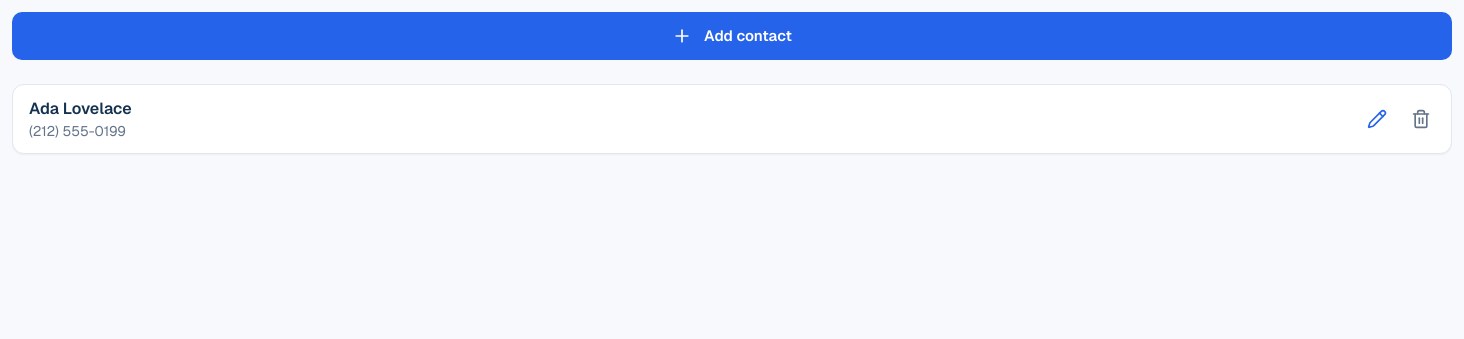
Test case: ContactManager › requires confirmation before deleting from the list
Click the button named "Delete Ada Lovelace" at (1421, 119), box x1=1399 y1=97 x2=1443 y2=141
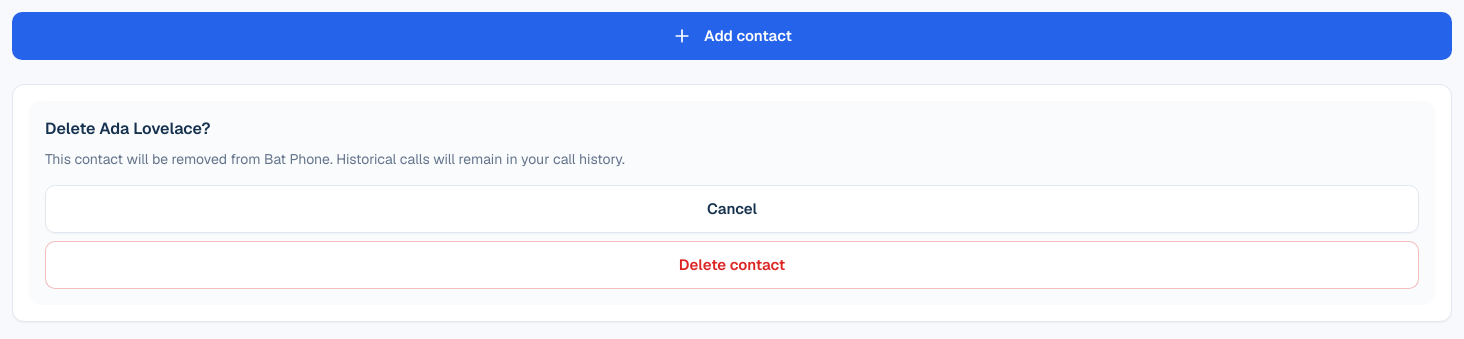
Check: the heading "Delete Ada Lovelace?" is shown, box x1=45 y1=118 x2=211 y2=139
Check: the text "This contact will be removed from Bat Phone. Historical calls will remain in your call history." is shown, box x1=45 y1=150 x2=625 y2=168
